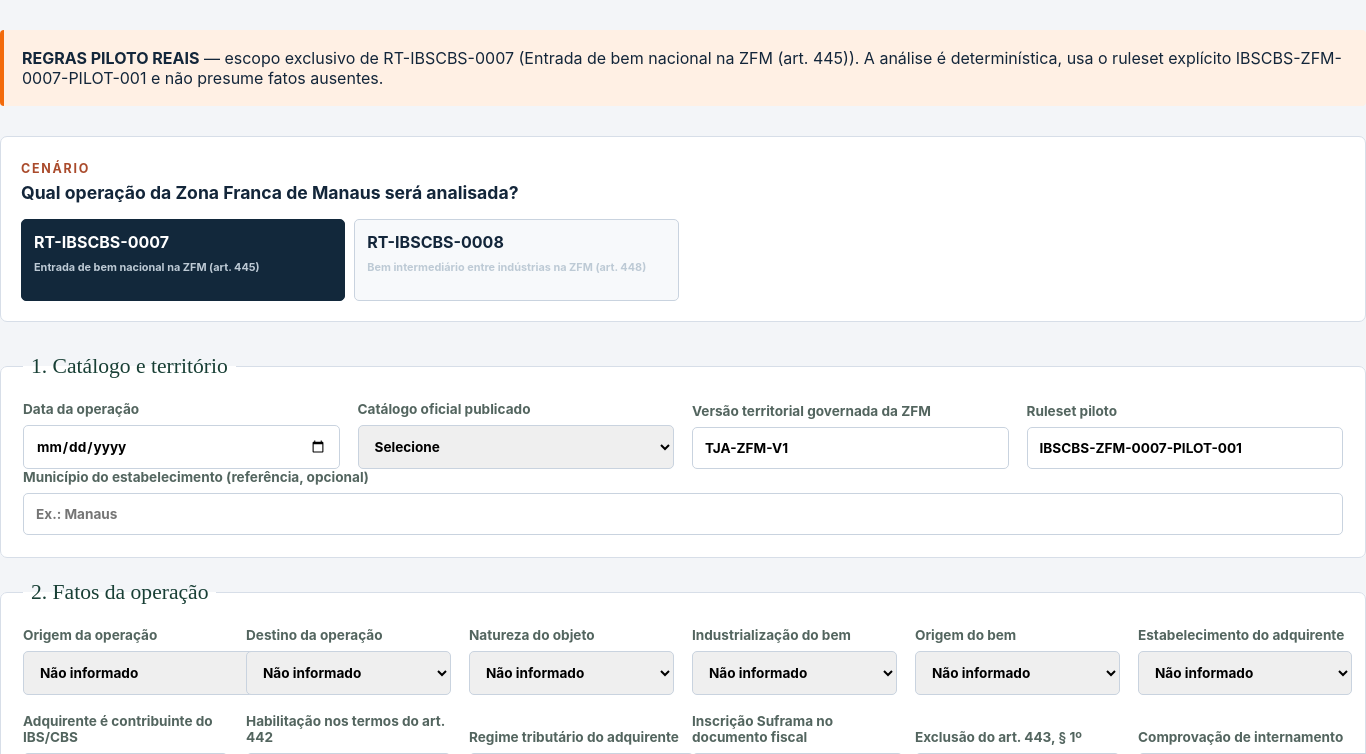
AssistedConsultationZfm › shows a non-binding territorial hint when the municipio matches a governed area
Type "tabatinga" into the field labelled "Município do estabelecimento (referência, opcional)" at [683, 514], box 23,493 -> 1343,535
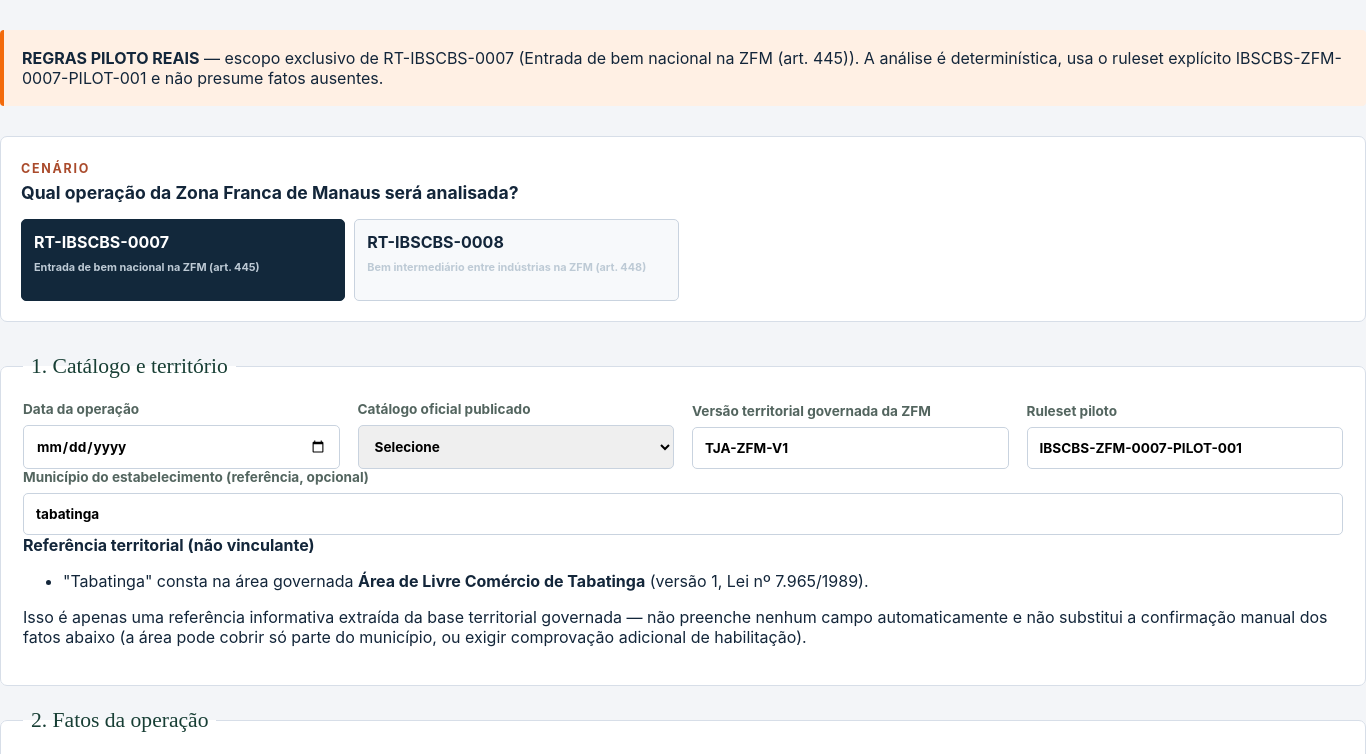
expect the text "Área de Livre Comércio de Tabatinga" is shown: met, box 358,571 -> 645,591
expect the text "referência informativa" is shown: met, box 23,607 -> 1328,647
